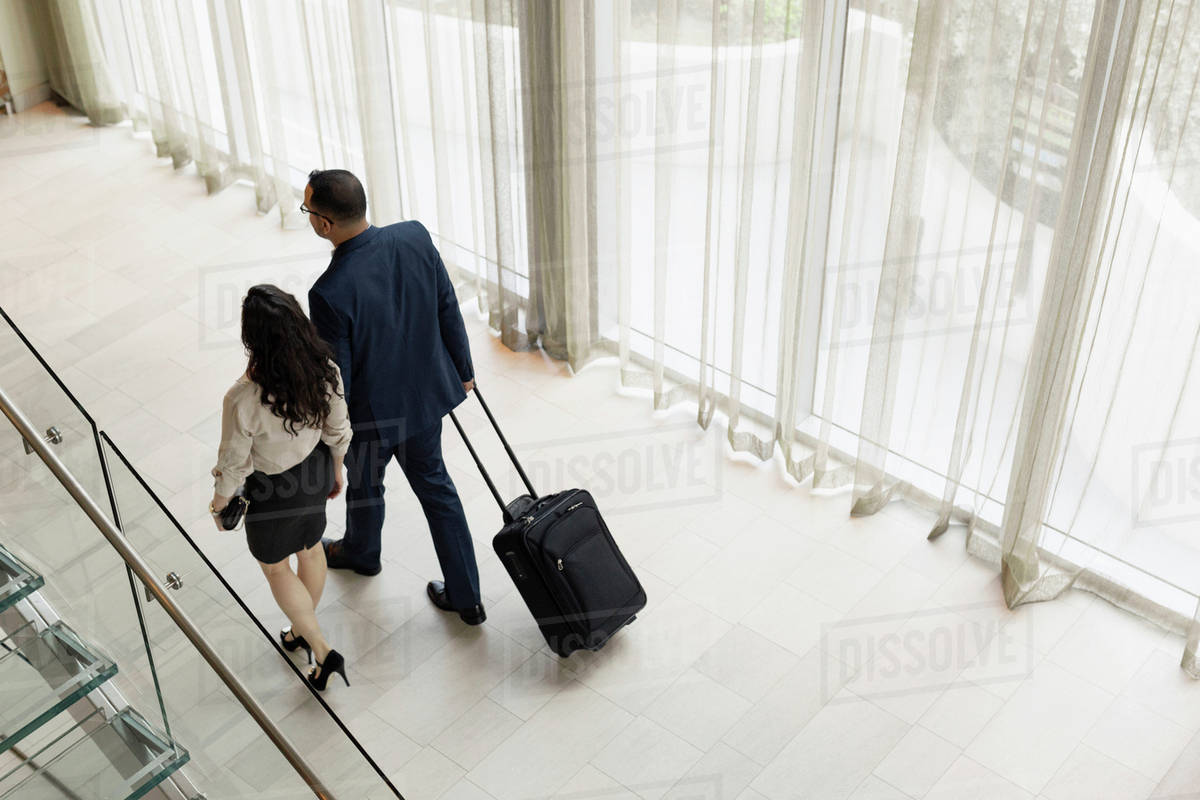Person: (294, 165, 498, 630), (203, 281, 359, 697)
